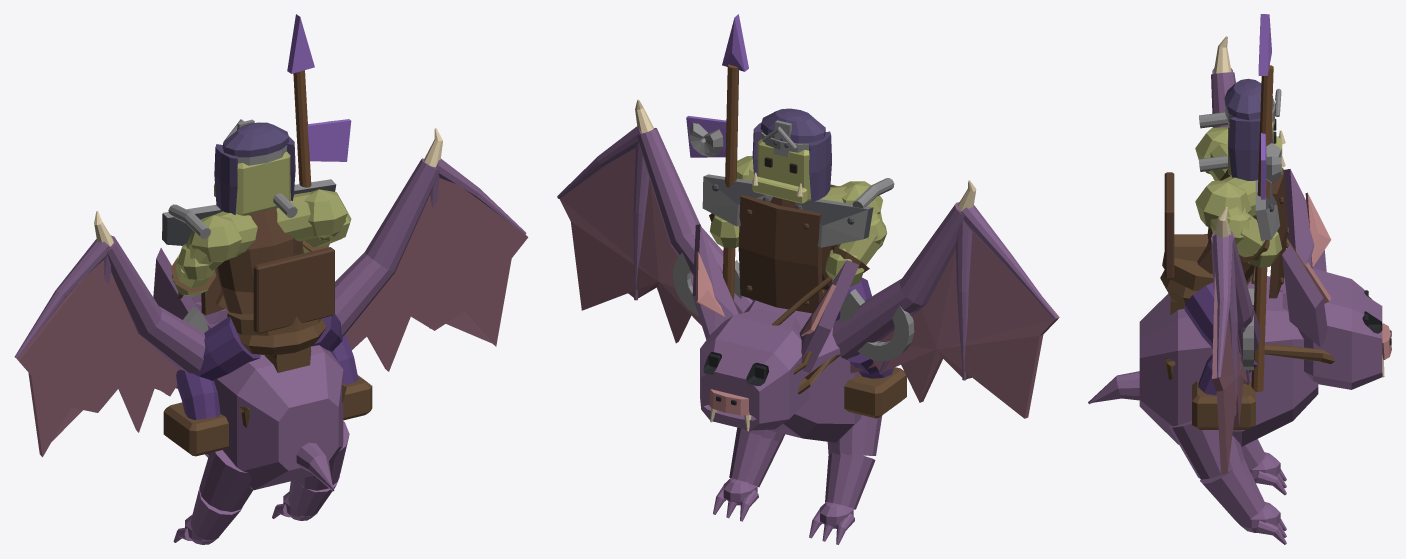
File: host_35.glb
The picture shows the model from 3 angles, left to right: view 1: azimuth 30°, elevation 25°; view 2: azimuth 150°, elevation 25°; view 3: azimuth 270°, elevation 25°; orthographic projection. The views are drawn at different scales.
Parts seen in each view (by area): view 1: V6 source mounted closed scalloped membrane R, V6 source mounted closed scalloped membrane L, V6 mount continuous anatomical thorax, V6 source mounted wing shoulder elbow wrist bone R, V6 source contacting small rear armor plate, V6 source mounted wing shoulder elbow wrist bone L, V6 rider source seated thorax, Observed face, Grounded boot L, V6 bat actual contacting hind thigh L, V6 rider actual connected seated thigh L, V6 source fitted rounded metal cap (+25 smaller); view 2: V6 source mounted closed scalloped membrane L, V6 source mounted closed scalloped membrane R, V6 bat source short faceted cranium, V6 source curved fitted breastplate, V6 source mounted wing shoulder elbow wrist bone L, V6 mount continuous anatomical thorax, V6 source mounted wing shoulder elbow wrist bone R, V6 Eclipse actual broad silver open crescent wing-root guard (×2), Grounded boot L, V6 source angled fitted shoulder plate L, V6 bat actual hind shin and ankle L, V6 bat source tall pointed anatomical ear.001 (+23 smaller); view 3: V6 mount continuous anatomical thorax, V6 bat source short faceted cranium, V6 source mounted closed scalloped membrane R, V6 bat source tall pointed anatomical ear.001, V6 source continuous held spear shaft, V6 bat actual contacting hind thigh R, V6 bat actual hind shin and ankle R, V6 bat source tall pointed anatomical ear, V6 mounted knight actual continuous cap contacting cheek tem, V6 source actual membrane finger R, Grounded boot R, Connected shoulder R (+31 smaller).
Part boxes in pixels (x1,y1,x2,y2): V6 source mounted closed scalloped membrane R: (346,178,528,371); V6 source mounted closed scalloped membrane L: (16,260,179,457); V6 mount continuous anatomical thorax: (205,322,343,490); V6 source mounted wing shoulder elbow wrist bone R: (335,158,439,335); V6 source contacting small rear armor plate: (253,247,334,333); V6 source mounted wing shoulder elbow wrist bone L: (106,235,205,373); V6 rider source seated thorax: (216,208,302,314); Observed face: (235,151,290,215); Grounded boot L: (163,402,228,456); V6 bat actual contacting hind thigh L: (199,450,253,511); V6 rider actual connected seated thigh L: (192,317,260,380); V6 source fitted rounded metal cap: (222,122,288,157); V6 source mounted closed scalloped membrane L: (850,232,1059,418); V6 source mounted closed scalloped membrane R: (559,149,701,343); V6 bat source short faceted cranium: (700,308,808,430); V6 source curved fitted breastplate: (738,195,822,313); V6 source mounted wing shoulder elbow wrist bone L: (832,202,964,360); V6 mount continuous anatomical thorax: (744,300,861,442); V6 source mounted wing shoulder elbow wrist bone R: (637,128,752,313); V6 Eclipse actual broad silver open crescent wing-root guard (×2): (672,252,914,361); Grounded boot L: (844,367,906,418); V6 source angled fitted shoulder plate L: (797,199,873,247); V6 bat actual hind shin and ankle L: (825,452,875,509); V6 bat source tall pointed anatomical ear.001: (692,224,738,339); V6 mount continuous anatomical thorax: (1139,276,1318,446); V6 bat source short faceted cranium: (1282,268,1382,389); V6 source mounted closed scalloped membrane R: (1212,273,1247,474); V6 bat source tall pointed anatomical ear.001: (1282,244,1327,346); V6 source continuous held spear shaft: (1251,65,1273,391); V6 bat actual contacting hind thigh R: (1169,421,1244,479); V6 bat actual hind shin and ankle R: (1200,458,1265,522); V6 bat source tall pointed anatomical ear: (1284,169,1326,271); V6 mounted knight actual continuous cap contacting cheek tem: (1228,117,1272,180); V6 source actual membrane finger R: (1212,234,1232,378); Grounded boot R: (1192,380,1255,429); Connected shoulder R: (1195,180,1251,227).
Size of the model in its own units: 2.39 by 2.27 by 1.19.
